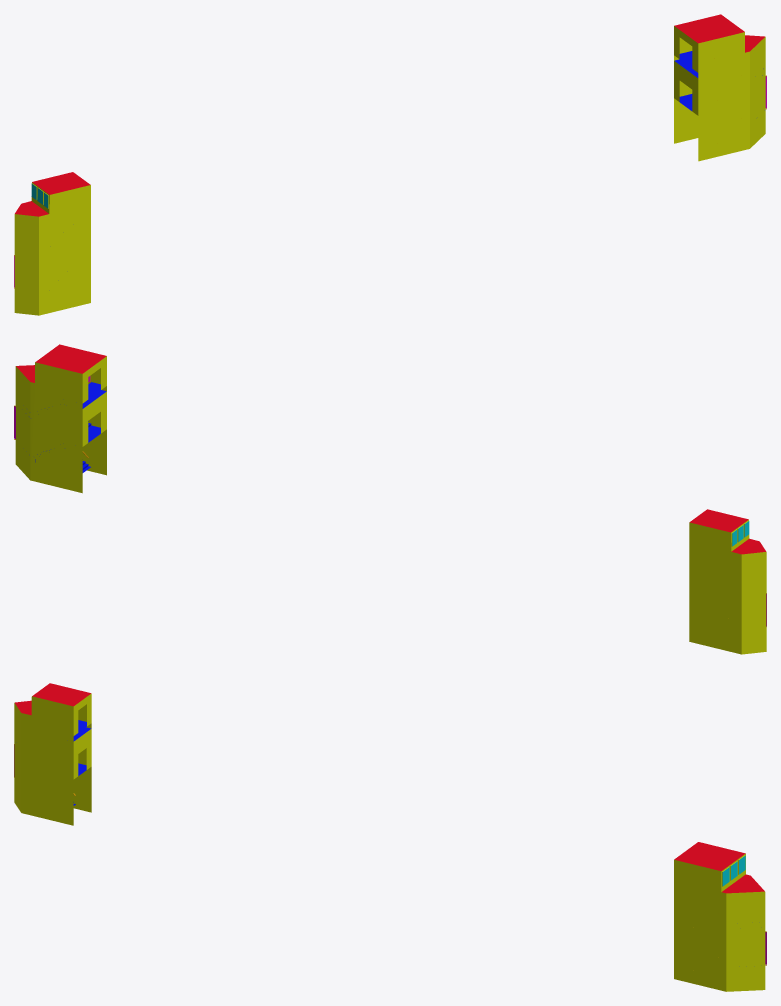
File: GBW Traptreden.fbx
3 renders of one model, top to bottom at view 1: azimuth 30°, elevation 25°; view 2: azimuth 150°, elevation 25°; view 3: azimuth 330°, elevation 25°, orthographic.
Parts seen in each view (by area): view 1: StairRooms(Muren), StairRoomsPlafond; view 2: StairRooms(Muren), StairRoomsPlafond, StairRooms(trapzelf); view 3: StairRooms(Muren), StairRoomsPlafond.
Boxes of the visible parts, <box> form: StairRooms(Muren): <box>14,26,765,315</box>; StairRoomsPlafond: <box>15,14,764,216</box>; StairRooms(Muren): <box>15,356,766,654</box>; StairRoomsPlafond: <box>16,344,765,554</box>; StairRooms(trapzelf): <box>35,382,106,472</box>; StairRooms(Muren): <box>14,693,765,991</box>; StairRoomsPlafond: <box>15,683,764,893</box>.
Size of the model in its own units: 7301 by 1100 by 419.
